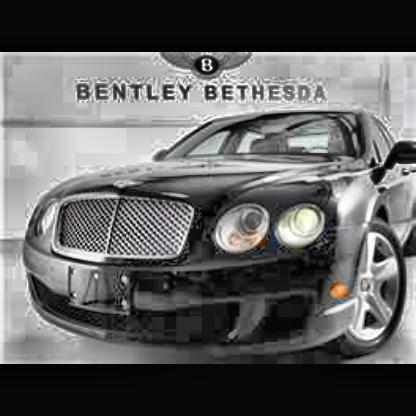Bentley Continental Flying Spur Sedan 2007: (22, 110, 416, 365)
